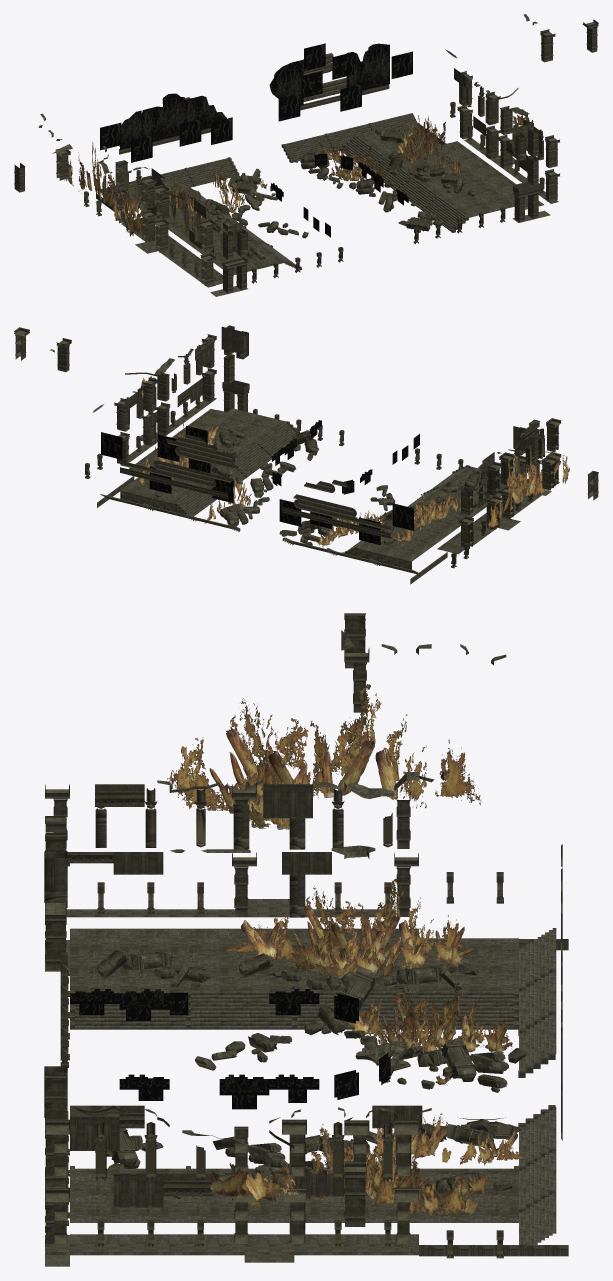
File: map5.fbx
3 renders of one model, top to bottom at view 1: azimuth 30°, elevation 25°; view 2: azimuth 150°, elevation 25°; view 3: azimuth 270°, elevation 25°, orthographic. The views are drawn at different scales.
Visible parts, largest first — view 1: 0007_polySurfaceShape340544, 0006_honou_1Shape, 0008_boss_gate5_Shape340655, 0005_honou_1Shape, 0004_honou_1Shape, 0001_gareki_539Shape, 0009_heiShape, 0010_polySurfaceShape340290, 0000_gareki_539Shape; view 2: 0007_polySurfaceShape340544, 0008_boss_gate5_Shape340655, 0005_honou_1Shape, 0009_heiShape, 0006_honou_1Shape, 0004_honou_1Shape, 0001_gareki_539Shape, 0010_polySurfaceShape340290, 0000_gareki_539Shape; view 3: 0007_polySurfaceShape340544, 0004_honou_1Shape, 0005_honou_1Shape, 0008_boss_gate5_Shape340655, 0001_gareki_539Shape, 0006_honou_1Shape, 0010_polySurfaceShape340290, 0000_gareki_539Shape.
Part boxes in pixels (x1,y1,x2,y2): 0007_polySurfaceShape340544: [101, 113, 558, 296]; 0006_honou_1Shape: [100, 43, 412, 237]; 0008_boss_gate5_Shape340655: [14, 19, 598, 293]; 0005_honou_1Shape: [135, 68, 543, 260]; 0004_honou_1Shape: [64, 112, 533, 236]; 0001_gareki_539Shape: [38, 14, 537, 259]; 0009_heiShape: [119, 53, 389, 154]; 0010_polySurfaceShape340290: [96, 78, 543, 242]; 0000_gareki_539Shape: [215, 161, 463, 258]; 0007_polySurfaceShape340544: [100, 398, 559, 573]; 0008_boss_gate5_Shape340655: [14, 325, 598, 568]; 0005_honou_1Shape: [118, 326, 544, 545]; 0009_heiShape: [120, 434, 390, 538]; 0006_honou_1Shape: [101, 420, 419, 544]; 0004_honou_1Shape: [138, 376, 569, 547]; 0001_gareki_539Shape: [49, 341, 564, 545]; 0010_polySurfaceShape340290: [97, 345, 544, 584]; 0000_gareki_539Shape: [215, 428, 479, 541]; 0007_polySurfaceShape340544: [45, 899, 556, 1266]; 0004_honou_1Shape: [167, 684, 526, 1217]; 0005_honou_1Shape: [44, 784, 526, 1243]; 0008_boss_gate5_Shape340655: [45, 613, 503, 1258]; 0001_gareki_539Shape: [95, 630, 526, 1199]; 0006_honou_1Shape: [70, 989, 390, 1109]; 0010_polySurfaceShape340290: [95, 788, 568, 1256]; 0000_gareki_539Shape: [97, 949, 507, 1182].
Bounding box in the file's own units: 215 × 40.76 × 84.12.
